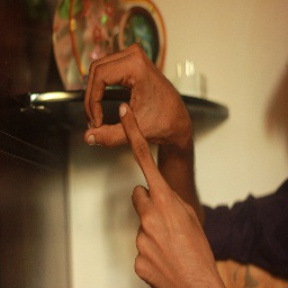Q: (83, 46, 191, 221)
